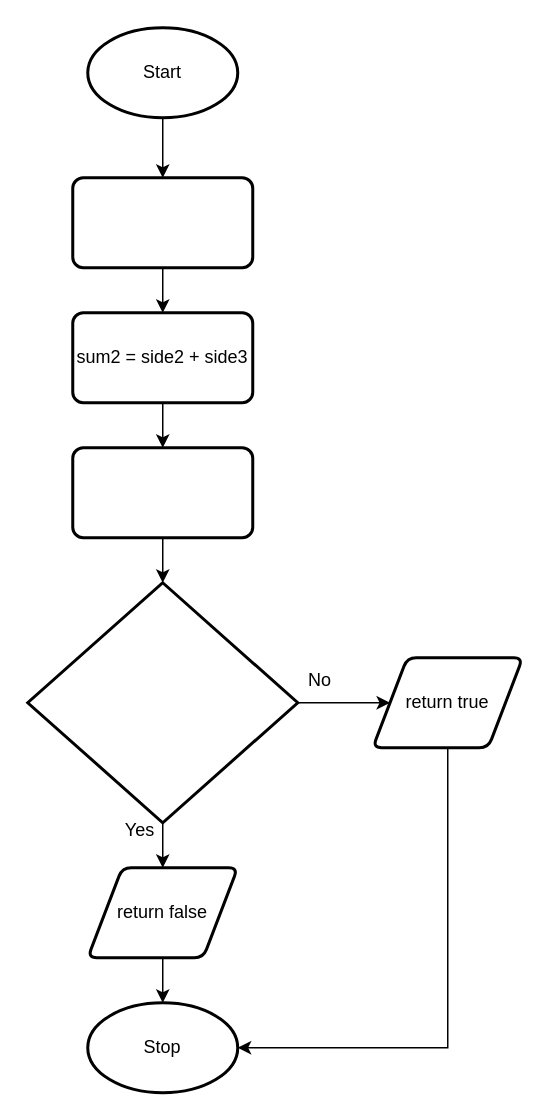
Image size: 549x1119. Some labels were removed from this diagram. The centre of each missing label's shape, as x and y in pixels:
"if (sum1 <= side3 || sum2 <= side1 || side3 <= side2)" goes at (162,702).
"sum1 = side1 + side2" goes at (162,222).
"sum3 = side1 + side3" goes at (162,492).
